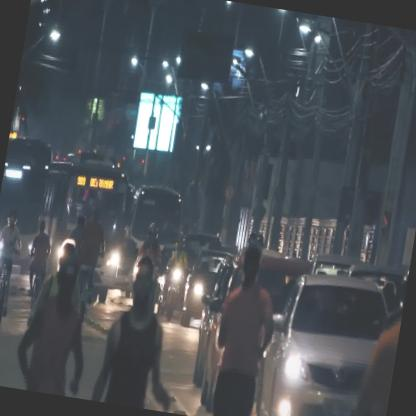bus: (29, 154, 130, 306)
car: (254, 266, 395, 415), (178, 248, 236, 334)
motorcycle: (0, 210, 25, 327), (161, 231, 189, 318)
